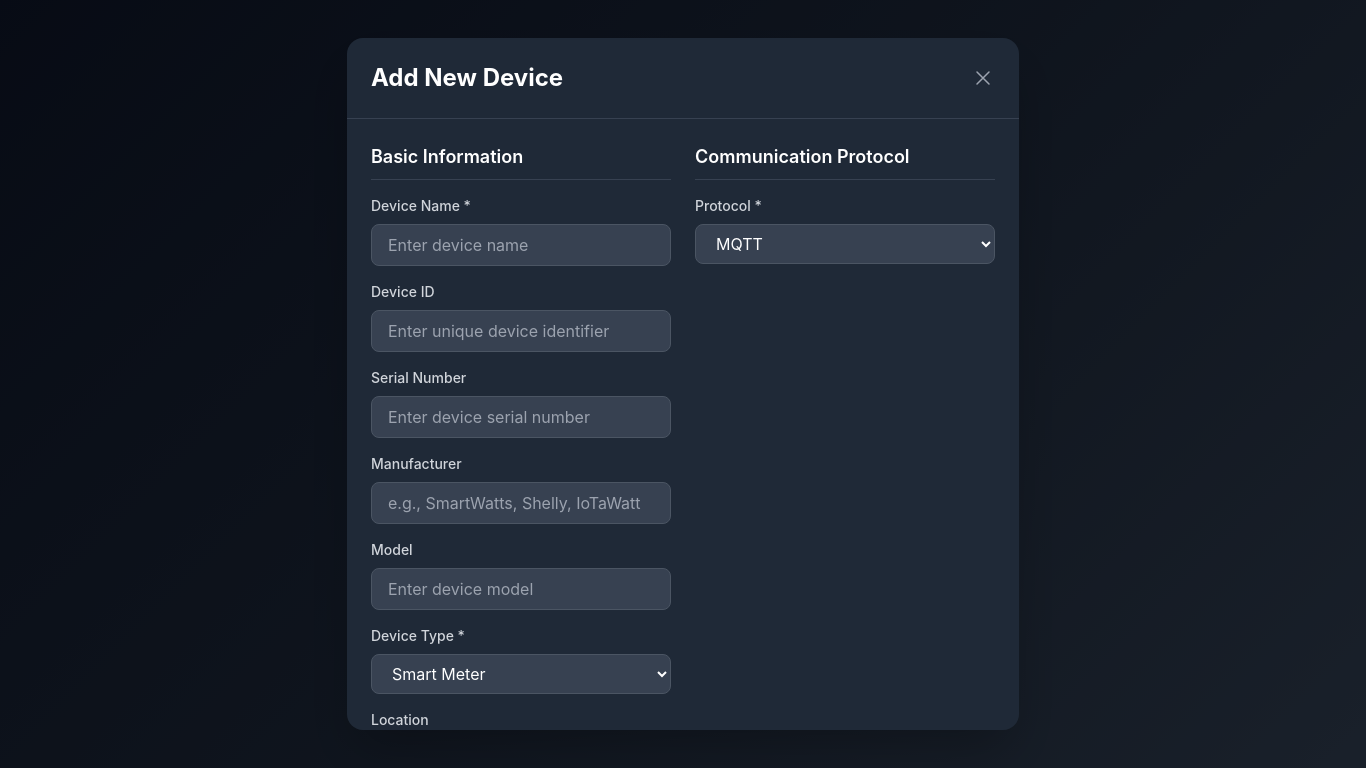
Test: AddDeviceModal › Device Verification Logic › should show unverified status for non-OEM devices
Type "Other Manufacturer" into the field labelled "Manufacturer" at point(521, 503), box [371,482,671,524]
(page scrolled)
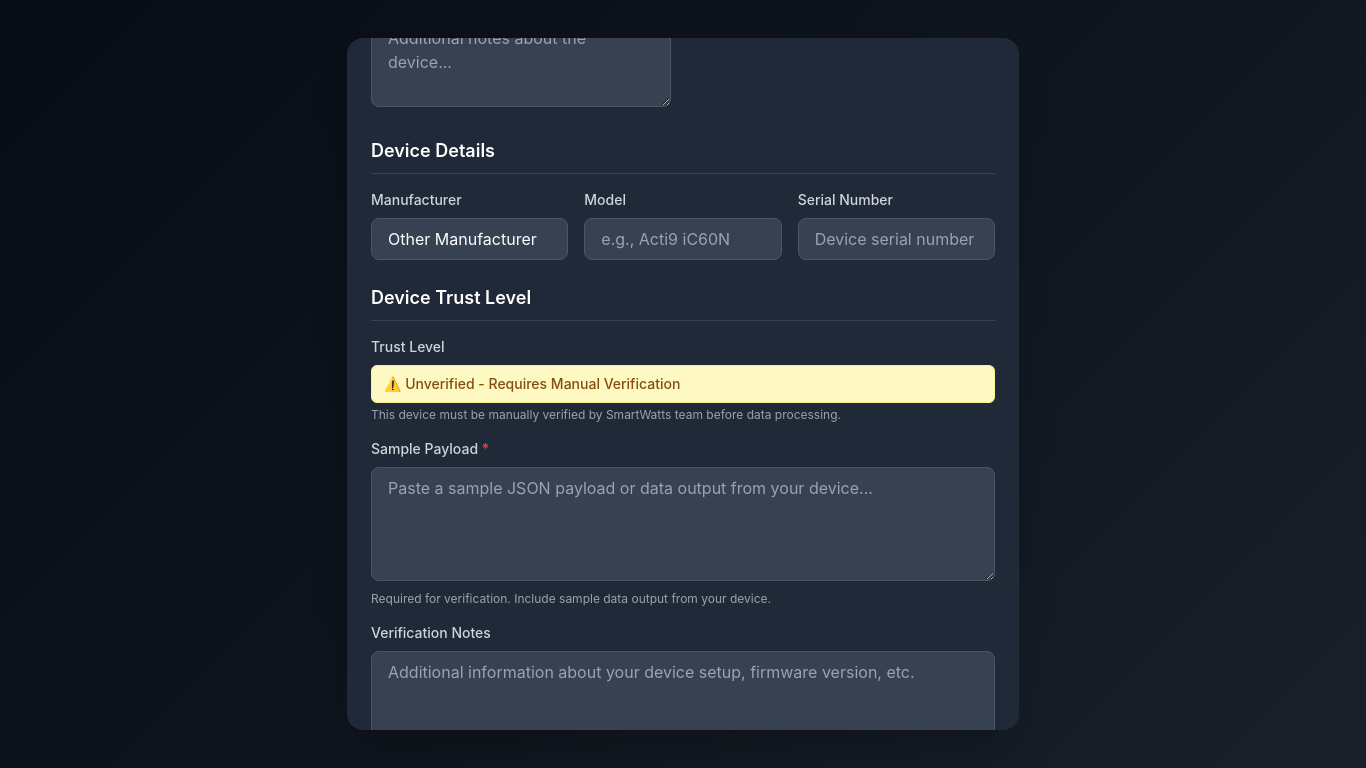
Check: the text "⚠️ Unverified - Requires Manual Verification" is shown, box [371,365,995,403]
